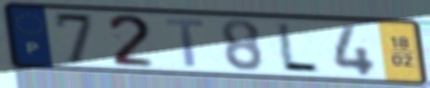2: (106, 13, 157, 70)
4: (331, 24, 380, 77)
7: (51, 10, 98, 65)
8: (219, 18, 267, 73)
L: (274, 20, 323, 75)
T: (163, 16, 207, 69)
